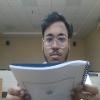notebook: (8, 59, 91, 99)
